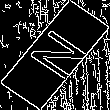N_SE: (19, 24, 91, 86)
